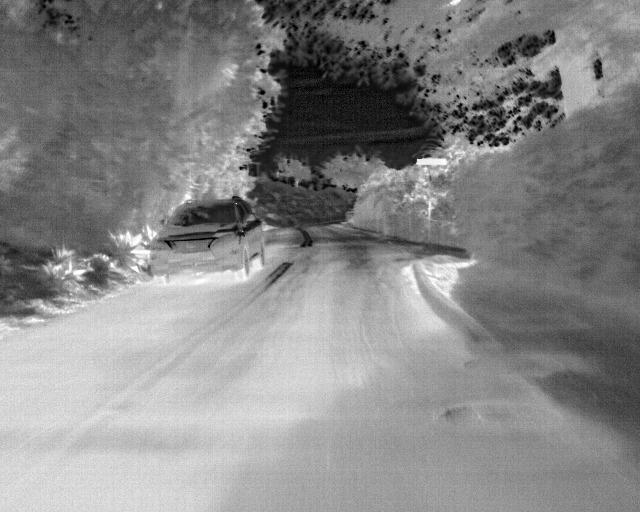car: (148, 195, 266, 286)
